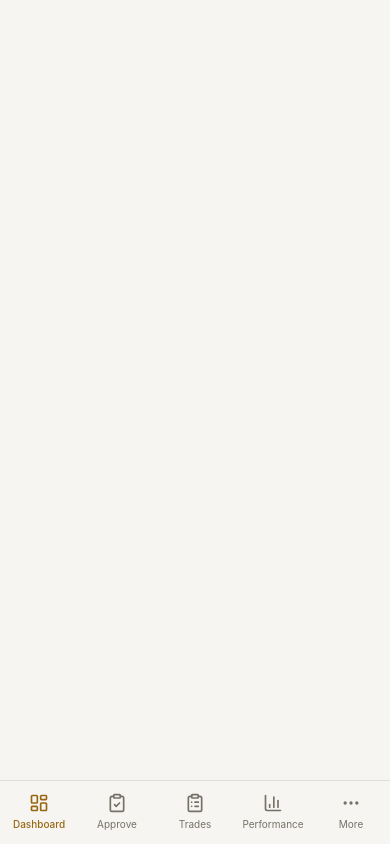
Test case: BottomNav › opens a "More" overlay listing the remaining routes
Click the button "More".
click(351, 812)  # box [312,781,389,843]
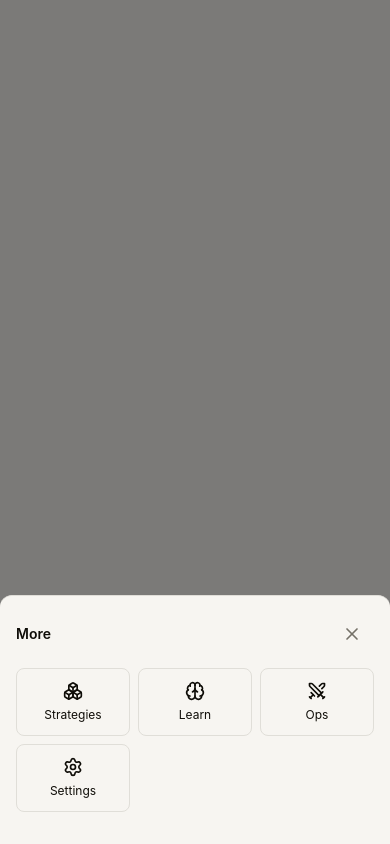
Expected: the link "Strategies" is shown, [16,668,130,736]
Expected: the link "Settings" is shown, [16,744,130,812]
